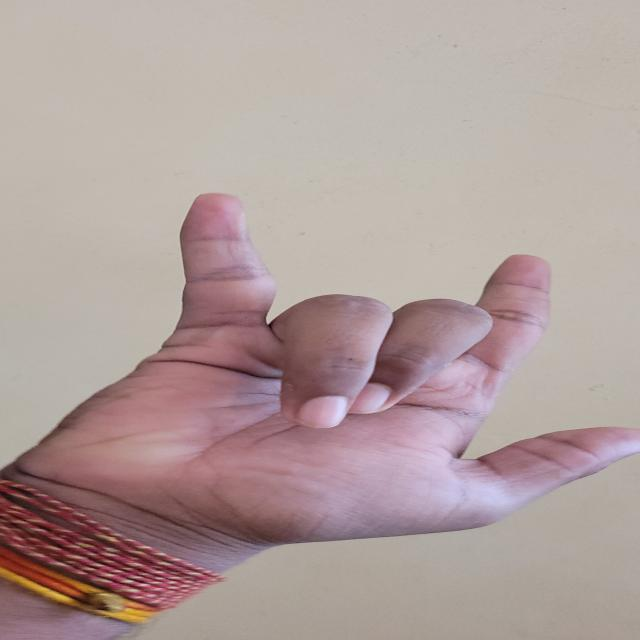i like you: (86, 157, 640, 593)
